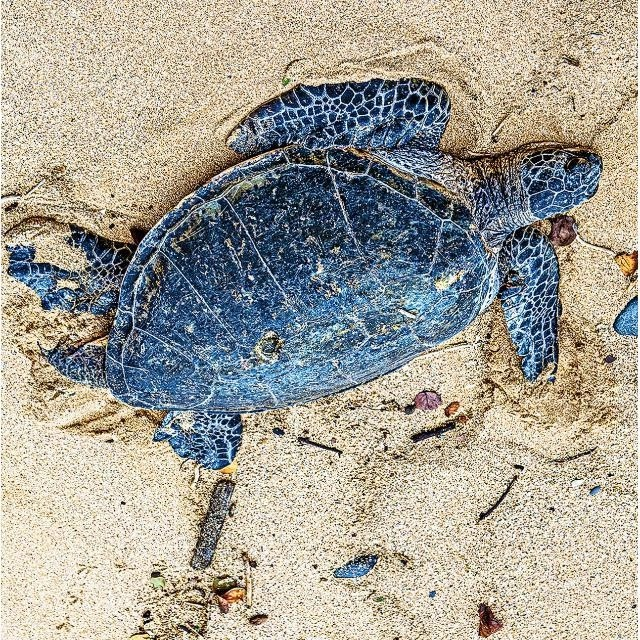turtle: (8, 79, 607, 472)
